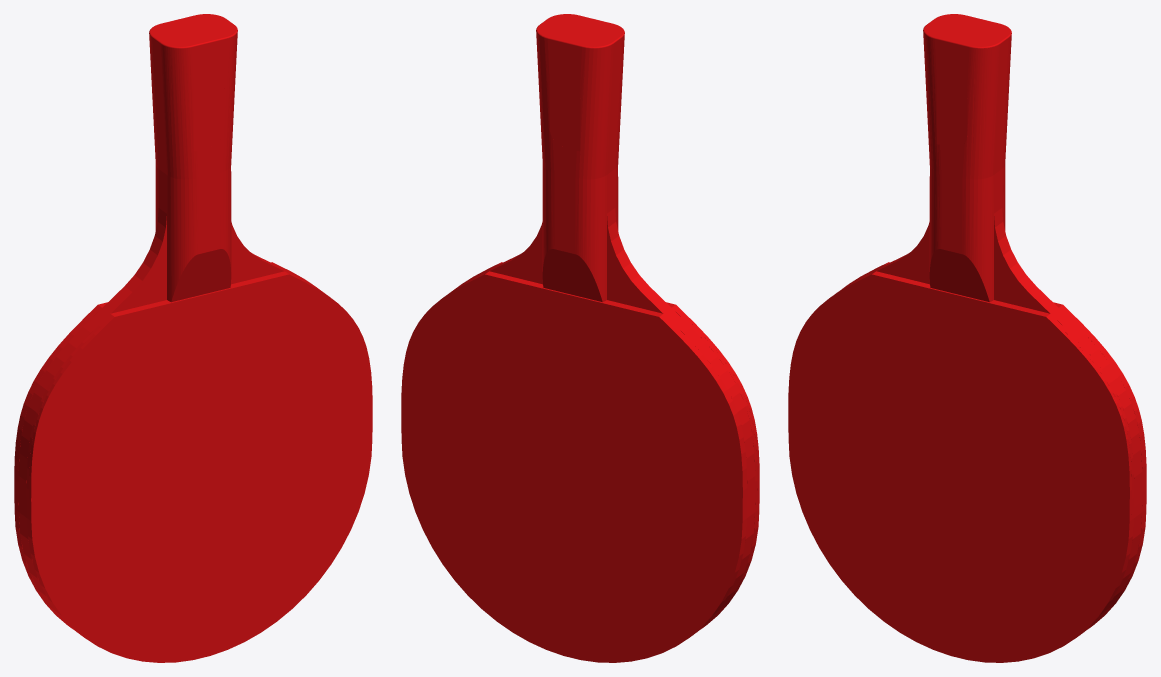
File: racket3_1.dae
The picture shows the model from 3 angles, left to right: view 1: azimuth 30°, elevation 25°; view 2: azimuth 150°, elevation 25°; view 3: azimuth 330°, elevation 25°; orthographic projection.
Parts seen in each view (by area): view 1: Racket3; view 2: Racket3; view 3: Racket3.
Part boxes in pixels (x1=…): Racket3: x1=14, y1=14, x2=372, y2=662; Racket3: x1=401, y1=14, x2=759, y2=662; Racket3: x1=788, y1=14, x2=1146, y2=662.
Size of the model in its own units: 0.1453 by 0.023 by 0.2525.
